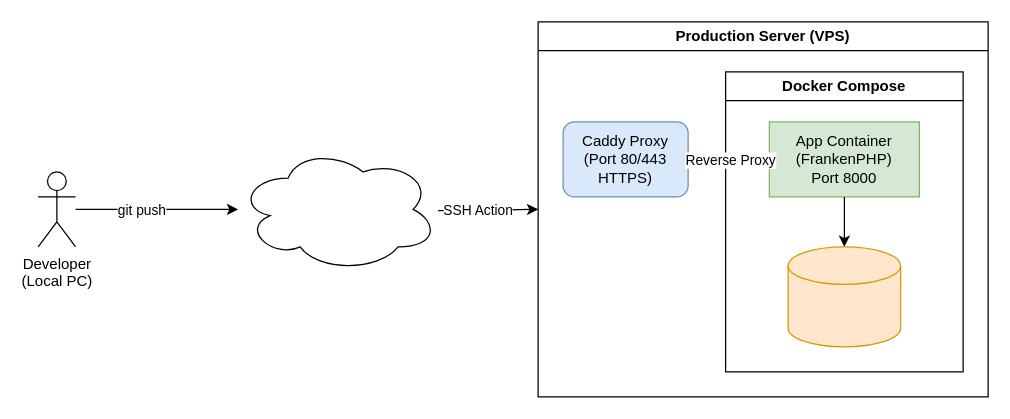
The diagram is 1010 pixels wide and 419 high, and some of its shapes have lost their labels. Each missing label, with the centre of its shape:
DB Container (MySQL 8): the point at 844,296
GitHub (Repository & CI/CD): the point at 337,209
